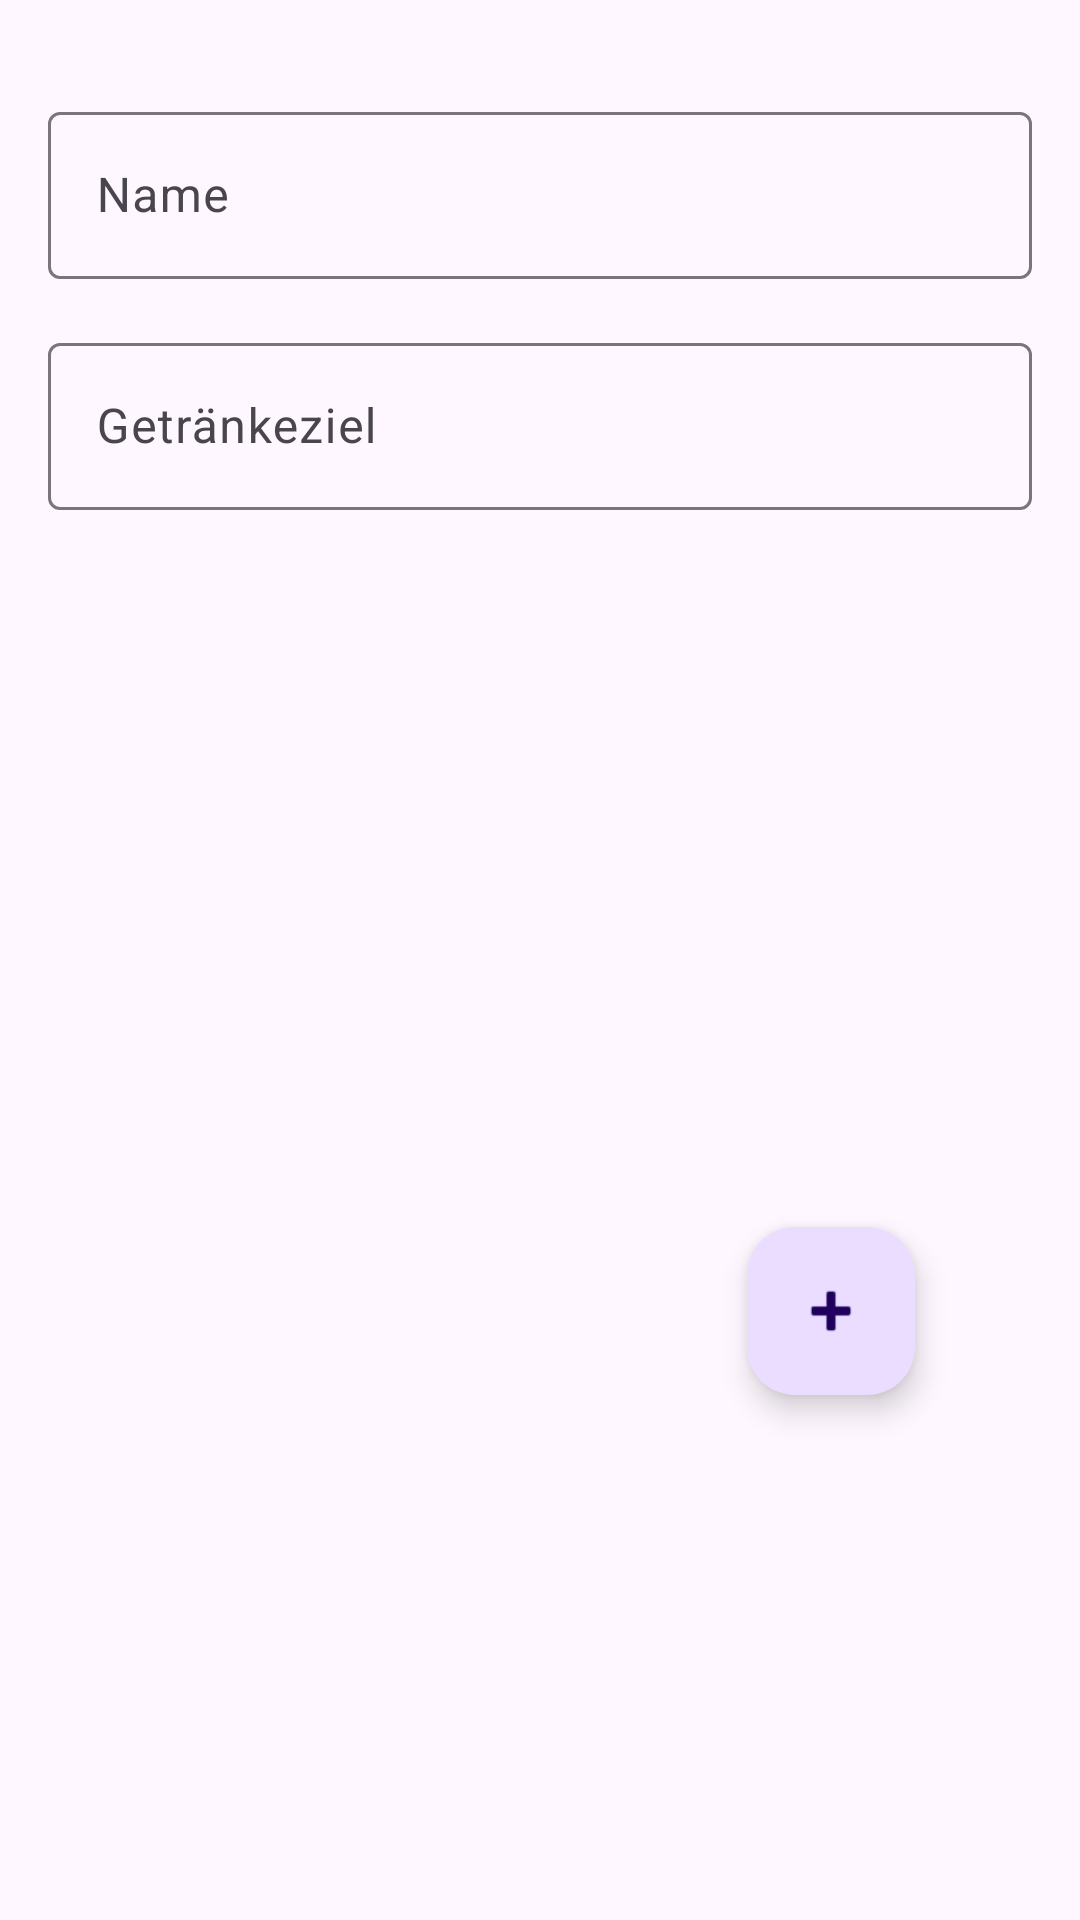

Icon bounding boxes for this 1080×1920 phone screenshot, format (x1, y1, x2, y2):
add: (747, 1227, 915, 1395)
